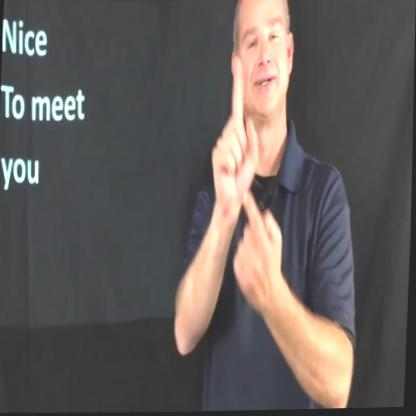NiceToMeetYou: (187, 50, 298, 309)
